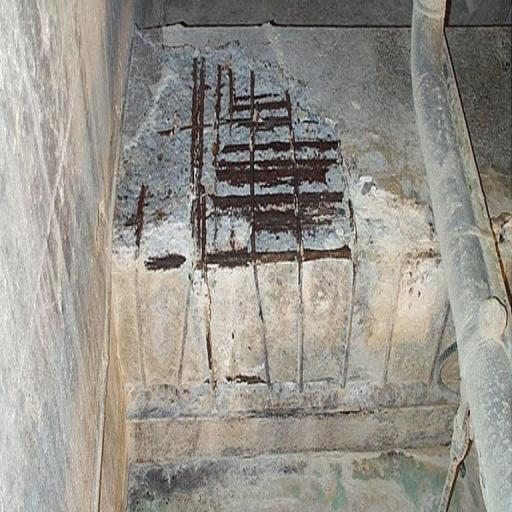spalling: (112, 36, 359, 269), (243, 274, 285, 408), (200, 287, 225, 403)
